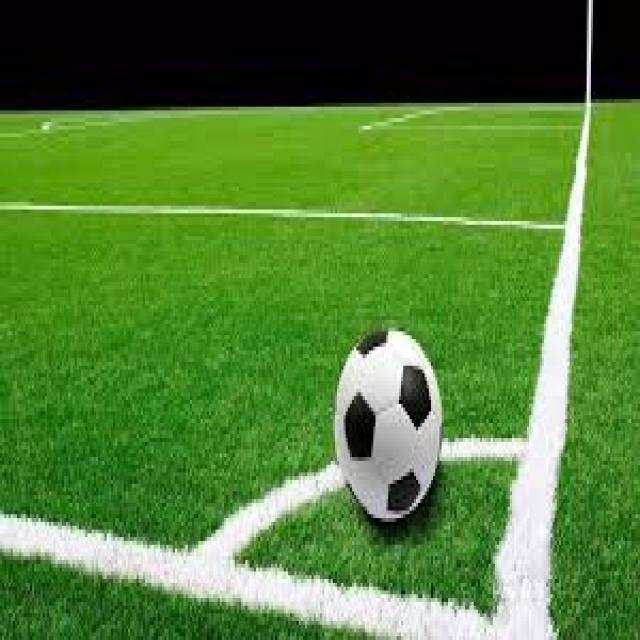ball: (333, 326, 443, 523)
